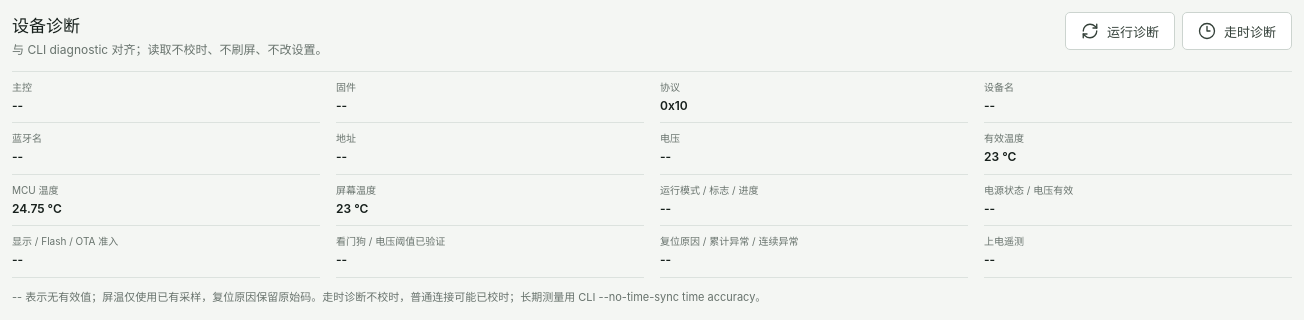
Test: keeps unavailable/Recovery/busy reads disabled and displays read failure
This screenshot has width=1304, height=320.
Later steps or results of the test are not shown.
Step 1. Click the button "走时诊断" → (1237, 31), box [1182, 12, 1292, 50]
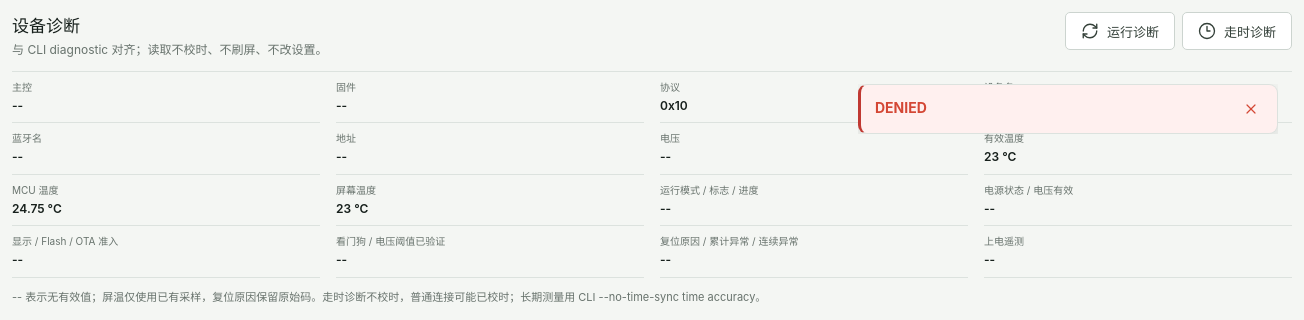
Check: the message "DENIED" is shown, box [858, 84, 1278, 134]
